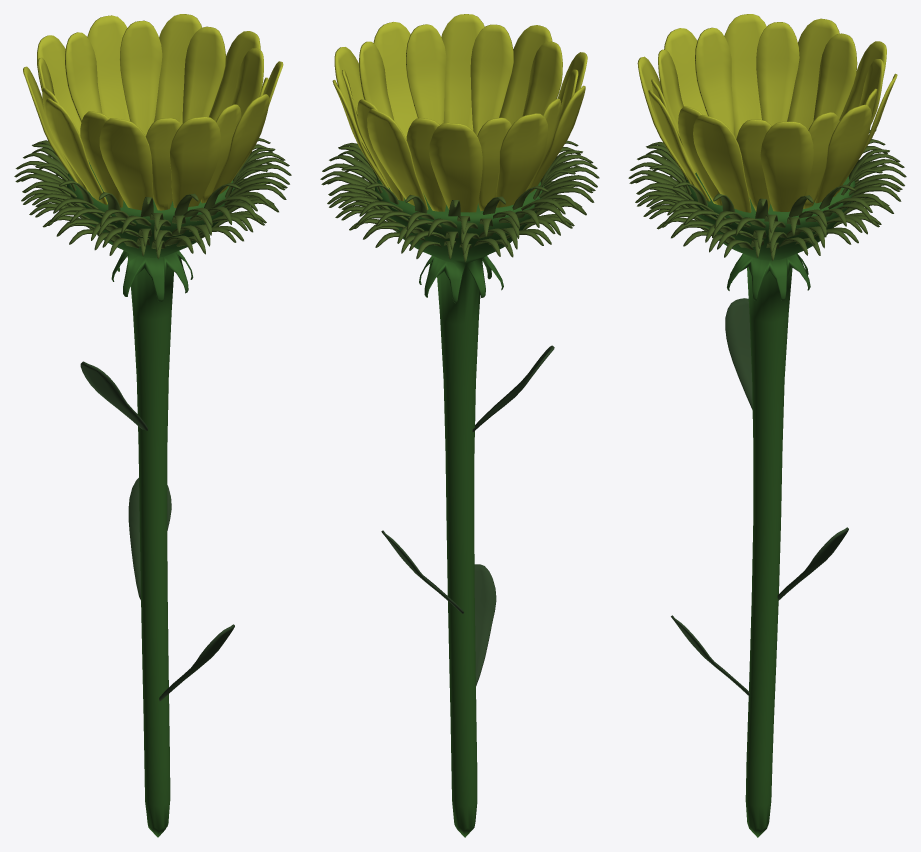
File: flower6.fbx
The picture shows the model from 3 angles, left to right: view 1: azimuth 30°, elevation 25°; view 2: azimuth 150°, elevation 25°; view 3: azimuth 270°, elevation 25°; orthographic projection.
Visible parts, largest first — view 1: Stem_leaf; view 2: Stem_leaf; view 3: Stem_leaf.
Boxes of the visible parts, x1,y1,x2,y2 form: Stem_leaf: (14,14,291,837); Stem_leaf: (320,14,599,837); Stem_leaf: (628,14,906,837).
Size of the model in its own units: 128 by 389 by 128.
